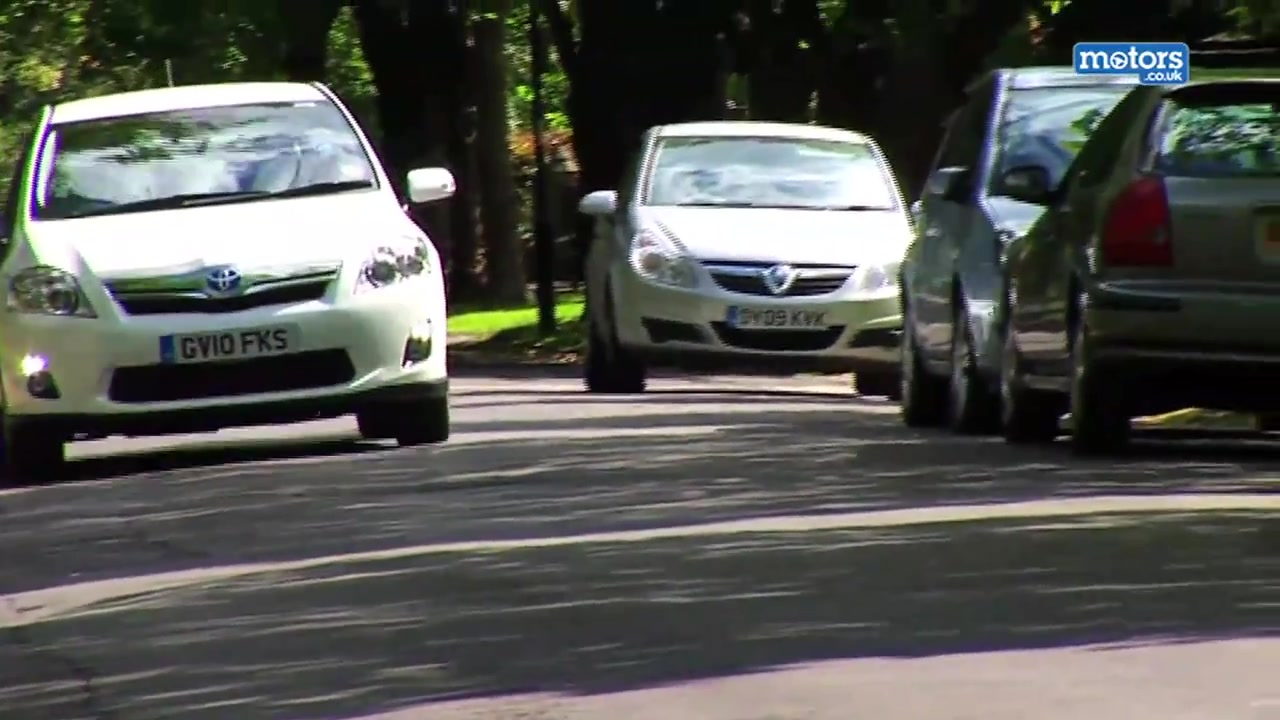car: (4, 78, 457, 476), (999, 58, 1280, 449), (576, 113, 924, 402), (900, 60, 1146, 442)
